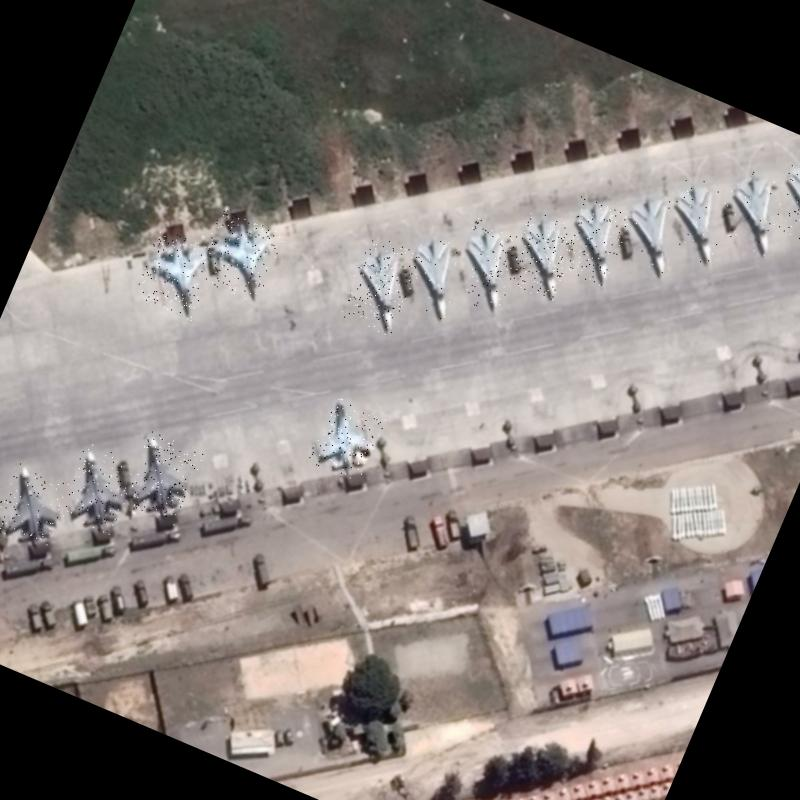A1: (192, 208, 286, 304), (132, 228, 220, 322), (306, 396, 386, 484)
A19: (118, 430, 204, 526), (56, 442, 142, 538), (0, 461, 74, 551)
A20: (710, 161, 800, 261), (338, 234, 424, 337), (391, 228, 478, 325), (654, 170, 740, 268), (444, 217, 528, 315), (608, 188, 693, 282), (552, 194, 634, 288), (501, 208, 582, 303), (765, 151, 800, 247)
